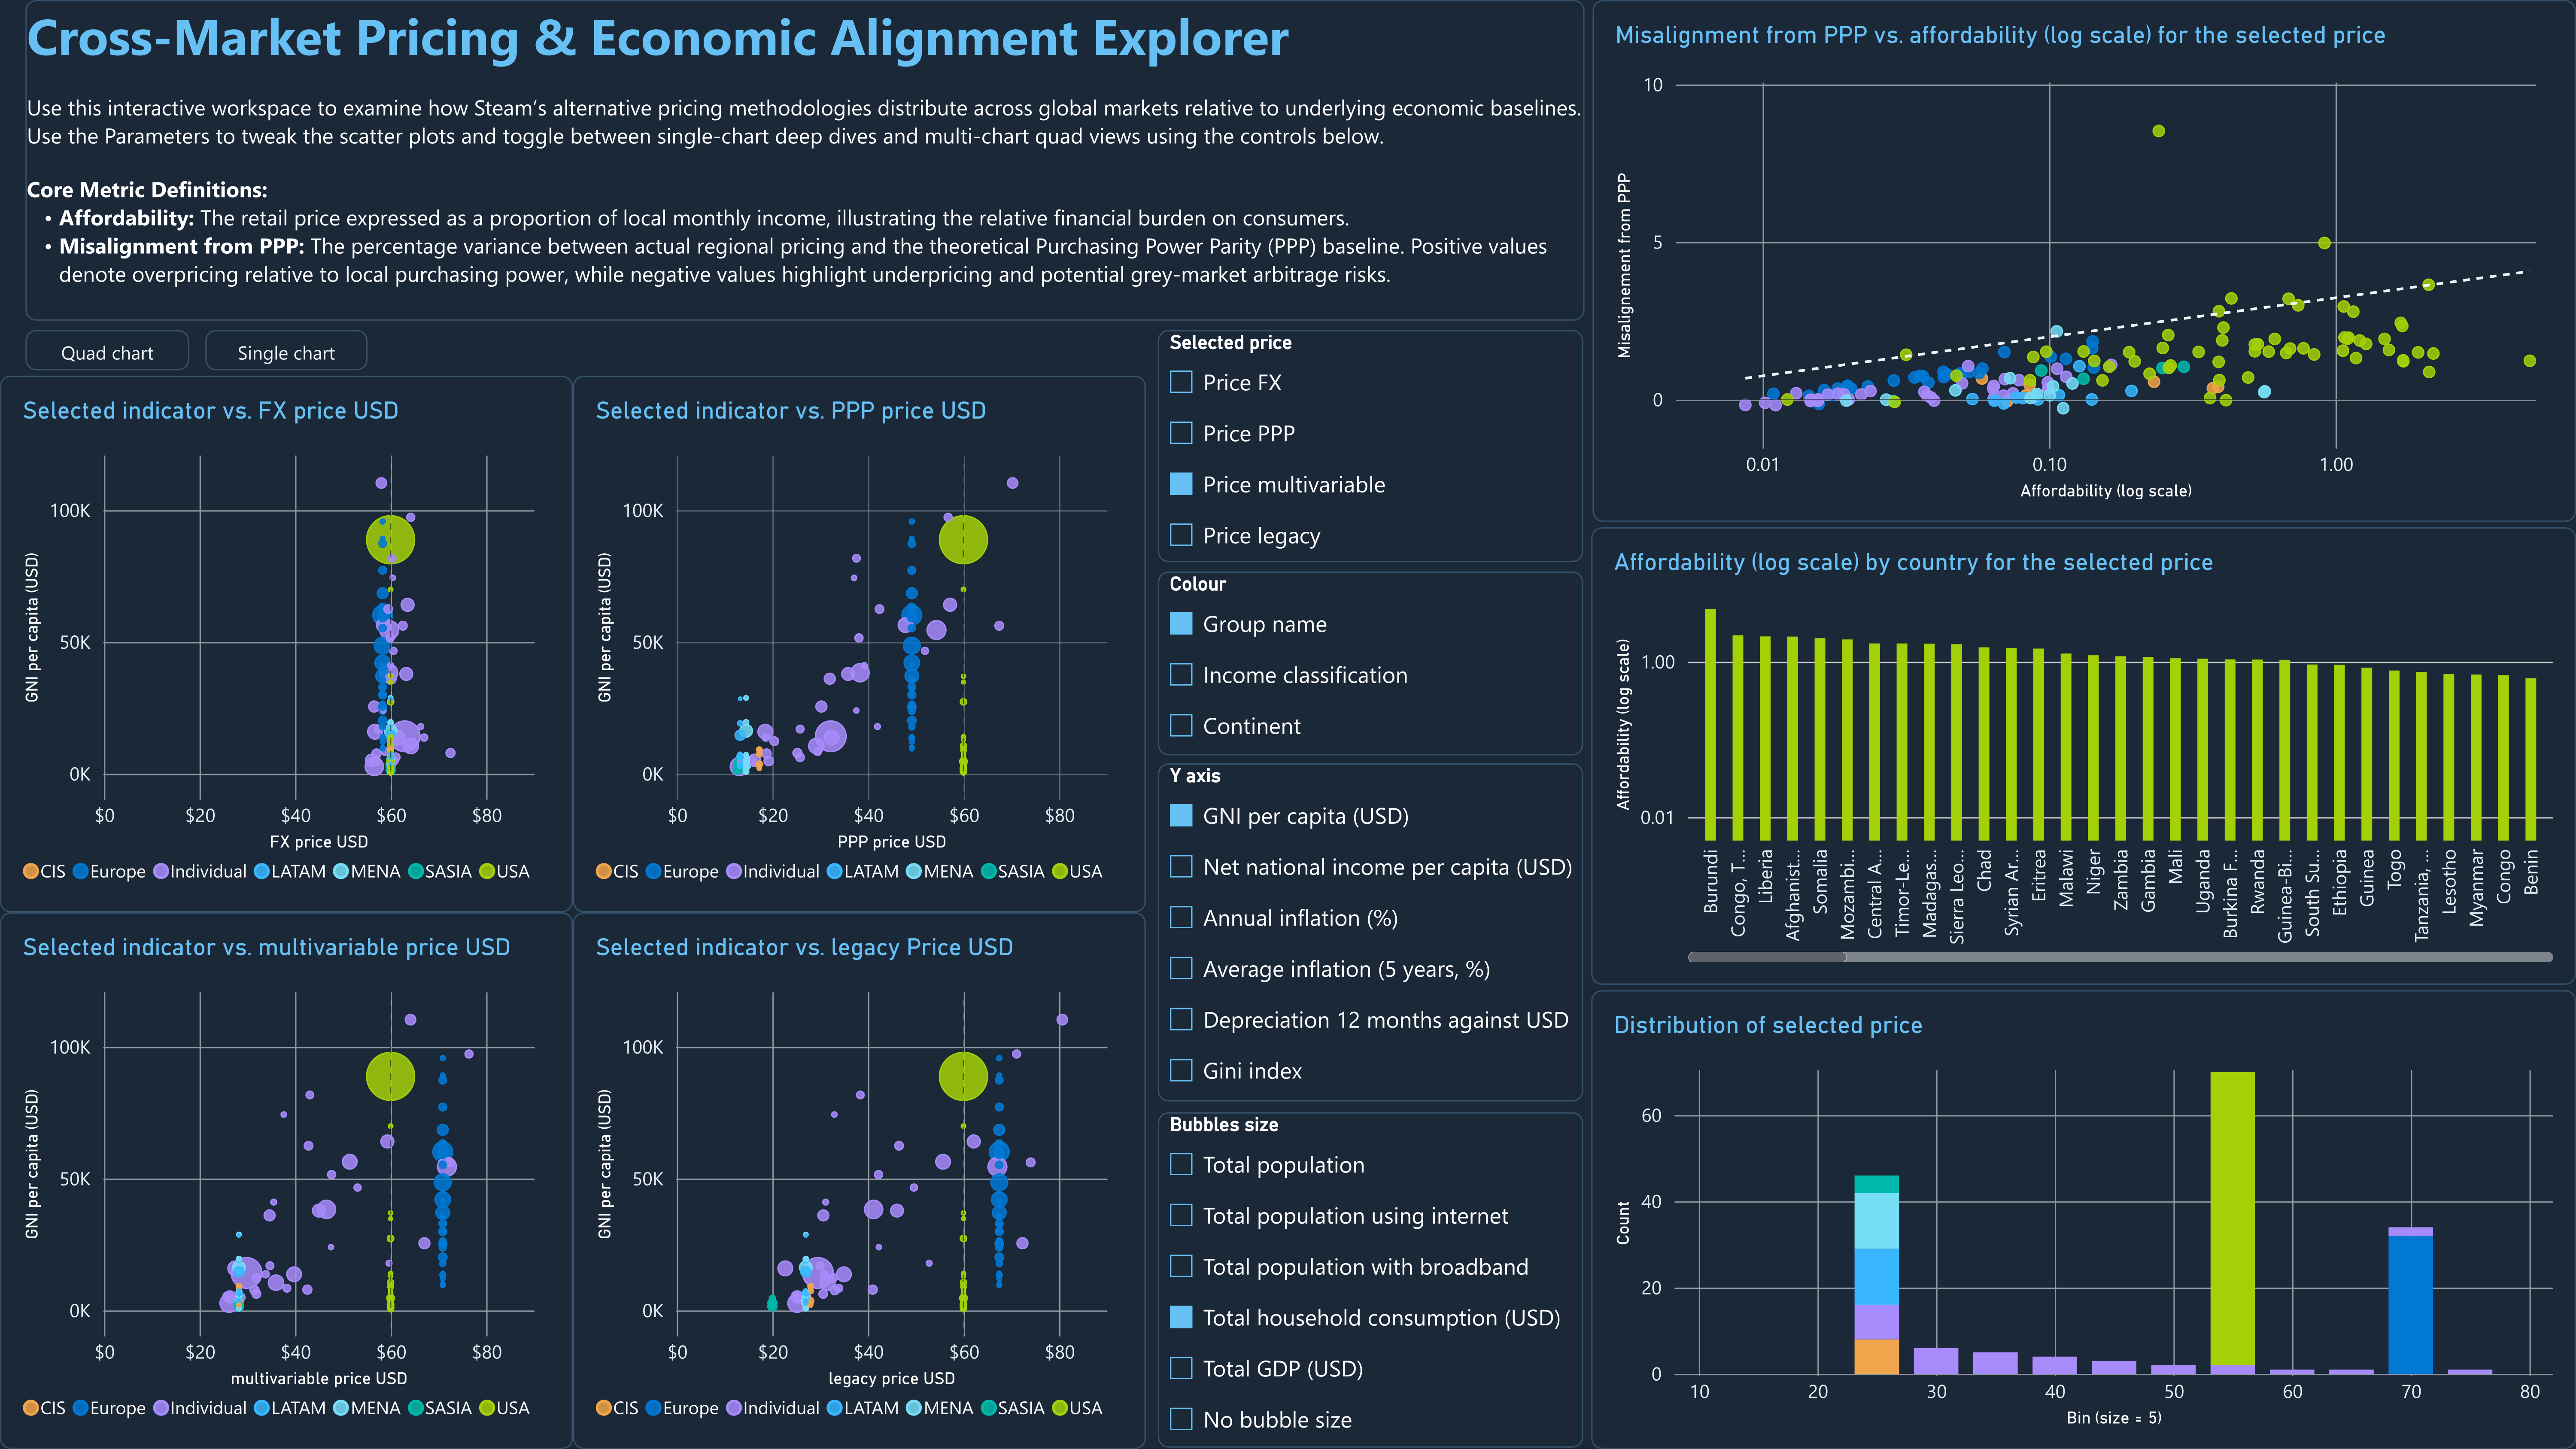

The page's visual inventory and layout, read from the dashboard file:
{"tool":"powerbi","page":{"name":"Recommended prices","canvas":[1920,1080],"ordinal":1},"visuals":[{"type":"slicer","fields":{"Values":["Price Scatter Chart Parameter.Paramètre"]},"box":[862.9,569.3,317.1,252.1],"z":0},{"type":"scatterChart","title":"Selected indicator vs. multivariable price USD","fields":{"Series":["steam_regional_pricing_dataset.group_name"],"Size":["steam_regional_pricing_dataset.Total Population"],"X":["steam_regional_pricing_dataset.price_steam_multivariable_USD"],"Y":["steam_regional_pricing_dataset.WB_GNI_per_capita"]},"box":[0,680,427.1,400],"z":2000},{"type":"slicer","fields":{"Values":["Paramètre.Paramètre"]},"box":[862.9,425.7,317.1,137.1],"z":3000},{"type":"scatterChart","title":"Selected indicator vs. PPP price USD","fields":{"Series":["steam_regional_pricing_dataset.group_name"],"Size":["steam_regional_pricing_dataset.Total Population"],"X":["steam_regional_pricing_dataset.price_steam_PPP_USD"],"Y":["steam_regional_pricing_dataset.WB_GNI_per_capita"]},"box":[427.1,280,427.1,400],"z":4000},{"type":"scatterChart","title":"Selected indicator vs. FX price USD","fields":{"Series":["steam_regional_pricing_dataset.group_name"],"Size":["steam_regional_pricing_dataset.Total Population"],"X":["steam_regional_pricing_dataset.price_steam_FX_USD"],"Y":["steam_regional_pricing_dataset.WB_GNI_per_capita"]},"box":[0,280,427.1,400],"z":5000},{"type":"slicer","fields":{"Values":["Paramètre.Paramètre"]},"box":[862.9,245.7,317.1,173.6],"z":6000},{"type":"slicer","fields":{"Values":["Size Bubbles.Size Bubbles"]},"box":[862.9,828.6,317.1,250],"z":7000},{"type":"scatterChart","title":"Selected indicator vs. legacy Price USD","fields":{"Series":["steam_regional_pricing_dataset.group_name"],"Size":["steam_regional_pricing_dataset.Total Population"],"X":["steam_regional_pricing_dataset.price_steam_legacy_USD"],"Y":["steam_regional_pricing_dataset.WB_GNI_per_capita"]},"box":[427.1,680,427.1,400],"z":8000},{"type":"actionButton","box":[152.9,245.7,121.4,30],"z":9000},{"type":"actionButton","box":[18.6,245.7,122.9,30],"z":10000},{"type":"lineStackedColumnComboChart","title":"Distribution of selected price","fields":{"Category":["Histogram Bins.Value"],"Series":["steam_regional_pricing_dataset.group_name"],"Y":["steam_regional_pricing_dataset.Histogram Count"]},"box":[1185.7,737.9,734.3,342.1],"z":11000},{"type":"columnChart","title":"Affordability (log scale) by country for the selected price","fields":{"Category":["steam_regional_pricing_dataset.country_name"],"Series":["steam_regional_pricing_dataset.group_name"],"Y":["steam_regional_pricing_dataset.Selected Affordability"]},"box":[1185.7,392.9,734.3,341.4],"z":12000},{"type":"scatterChart","title":"Misalignment from PPP vs. affordability (log scale) for the selected price","fields":{"Category":["steam_regional_pricing_dataset.country_name"],"Series":["steam_regional_pricing_dataset.group_name"],"X":["steam_regional_pricing_dataset.Selected Affordability"],"Y":["steam_regional_pricing_dataset.Selected Misalignment"]},"box":[1187.1,0,732.9,388.6],"z":13000},{"type":"textbox","box":[18.6,0,1162.9,239.3],"z":16000}]}

Visuals, with their boxes in screenshot pixels (x1, y1, x2, y2), scaled from the page's 1920x1080 canvas onto the 2576x1449 screenshot:
slicer - Price Scatter Chart Parameter.Paramètre: region(1158, 764, 1583, 1102)
"Selected indicator vs. multivariable price USD" scatterChart: region(0, 912, 573, 1449)
slicer - Paramètre.Paramètre: region(1158, 571, 1583, 755)
"Selected indicator vs. PPP price USD" scatterChart: region(573, 376, 1146, 912)
"Selected indicator vs. FX price USD" scatterChart: region(0, 376, 573, 912)
slicer - Paramètre.Paramètre: region(1158, 330, 1583, 562)
slicer - Size Bubbles.Size Bubbles: region(1158, 1112, 1583, 1447)
"Selected indicator vs. legacy Price USD" scatterChart: region(573, 912, 1146, 1449)
actionButton: region(205, 330, 368, 370)
actionButton: region(25, 330, 190, 370)
"Distribution of selected price" lineStackedColumnComboChart: region(1591, 990, 2576, 1449)
"Affordability (log scale) by country for the selected price" columnChart: region(1591, 527, 2576, 985)
"Misalignment from PPP vs. affordability (log scale) for the selected price" scatterChart: region(1593, 0, 2576, 521)
textbox: region(25, 0, 1585, 321)
